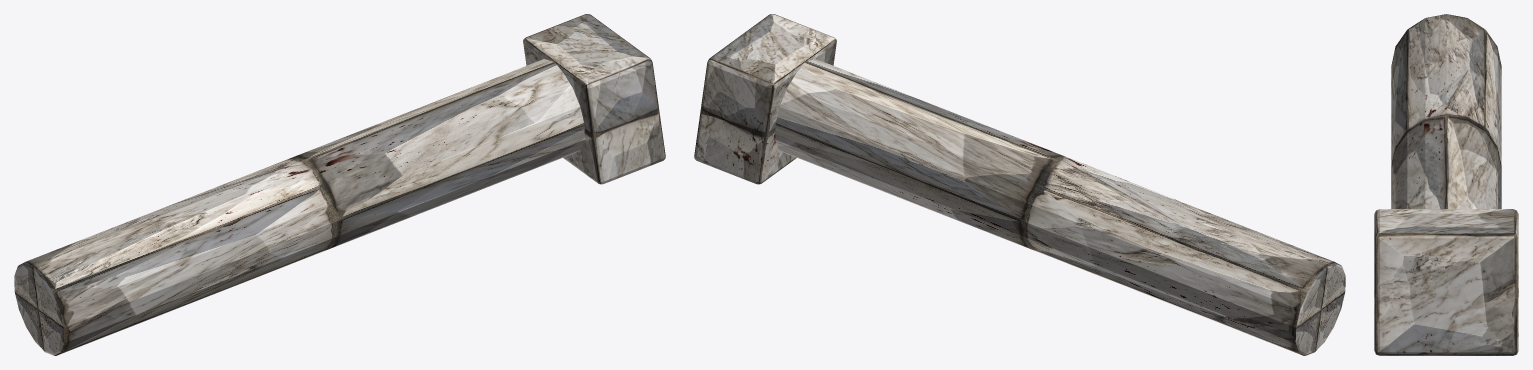
Rendered from fallen_column_walkable_LOD1.glb.
The picture shows the model from 3 angles, left to right: view 1: azimuth 30°, elevation 25°; view 2: azimuth 150°, elevation 25°; view 3: azimuth 270°, elevation 25°; orthographic projection. The views are drawn at different scales.
Parts seen in each view (by area): view 1: LOD1_Column, LOD1_Capital; view 2: LOD1_Column, LOD1_Capital; view 3: LOD1_Capital, LOD1_Column.
Part boxes in pixels (bbox=[...]): LOD1_Column: bbox=[14, 59, 584, 355]; LOD1_Capital: bbox=[523, 14, 665, 184]; LOD1_Column: bbox=[775, 59, 1345, 355]; LOD1_Capital: bbox=[694, 14, 836, 184]; LOD1_Capital: bbox=[1374, 209, 1518, 355]; LOD1_Column: bbox=[1391, 14, 1501, 208].
Size of the model in its own units: 5.42 by 1.52 by 1.02.
1 material, 1 textured.
